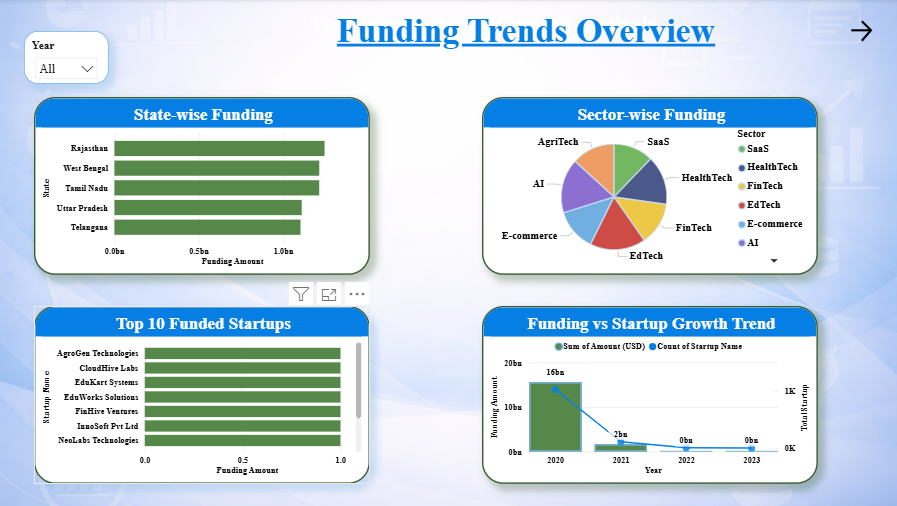

The page's visual inventory and layout, read from the dashboard file:
{"tool":"powerbi","page":{"name":"Funding Overview","canvas":[1280,720],"ordinal":1},"visuals":[{"type":"textbox","box":[442.2,11.3,523,58.1],"z":0},{"type":"slicer","title":"Year","fields":{"Values":["Startup.Year"]},"box":[42.5,45.4,120.5,75.1],"z":2000},{"type":"clusteredBarChart","title":"State-wise Funding","fields":{"Category":["Startup.State"],"Y":["Sum(Startup.Amount (USD))"]},"box":[56.7,138.9,476.2,252.3],"z":3000},{"type":"pieChart","title":"Sector-wise Funding","fields":{"Category":["Startup.Sector"],"Y":["Sum(Startup.Amount (USD))"]},"box":[691.7,138.9,476.2,252.3],"z":4000},{"type":"lineClusteredColumnComboChart","title":"Funding vs Startup Growth Trend","fields":{"Category":["Startup.Year"],"Y":["Sum(Startup.Amount (USD))"],"Y2":["CountNonNull(Startup.Startup Name)"]},"box":[691.7,435.1,476.2,252.3],"z":5000},{"type":"clusteredBarChart","title":"Top 10 Funded Startups","fields":{"Category":["Startup.Startup Name"],"Y":["CountNonNull(Startup.Funding Stage)"]},"box":[56.7,435.1,476.2,252.3],"z":6000},{"type":"actionButton","box":[1179.2,25.5,100.6,39.7],"z":6001},{"type":"textbox","box":[354.3,11.3,799.4,86.5],"z":6002}]}

Visuals, with their boxes in screenshot pixels (x1, y1, x2, y2), scaled from the page's 1280x720 canvas onto the 897x506 screenshot:
textbox: (310, 8, 676, 49)
"Year" slicer: (30, 32, 114, 85)
"State-wise Funding" clusteredBarChart: (40, 98, 373, 275)
"Sector-wise Funding" pieChart: (485, 98, 818, 275)
"Funding vs Startup Growth Trend" lineClusteredColumnComboChart: (485, 306, 818, 483)
"Top 10 Funded Startups" clusteredBarChart: (40, 306, 373, 483)
actionButton: (826, 18, 896, 46)
textbox: (248, 8, 808, 69)
